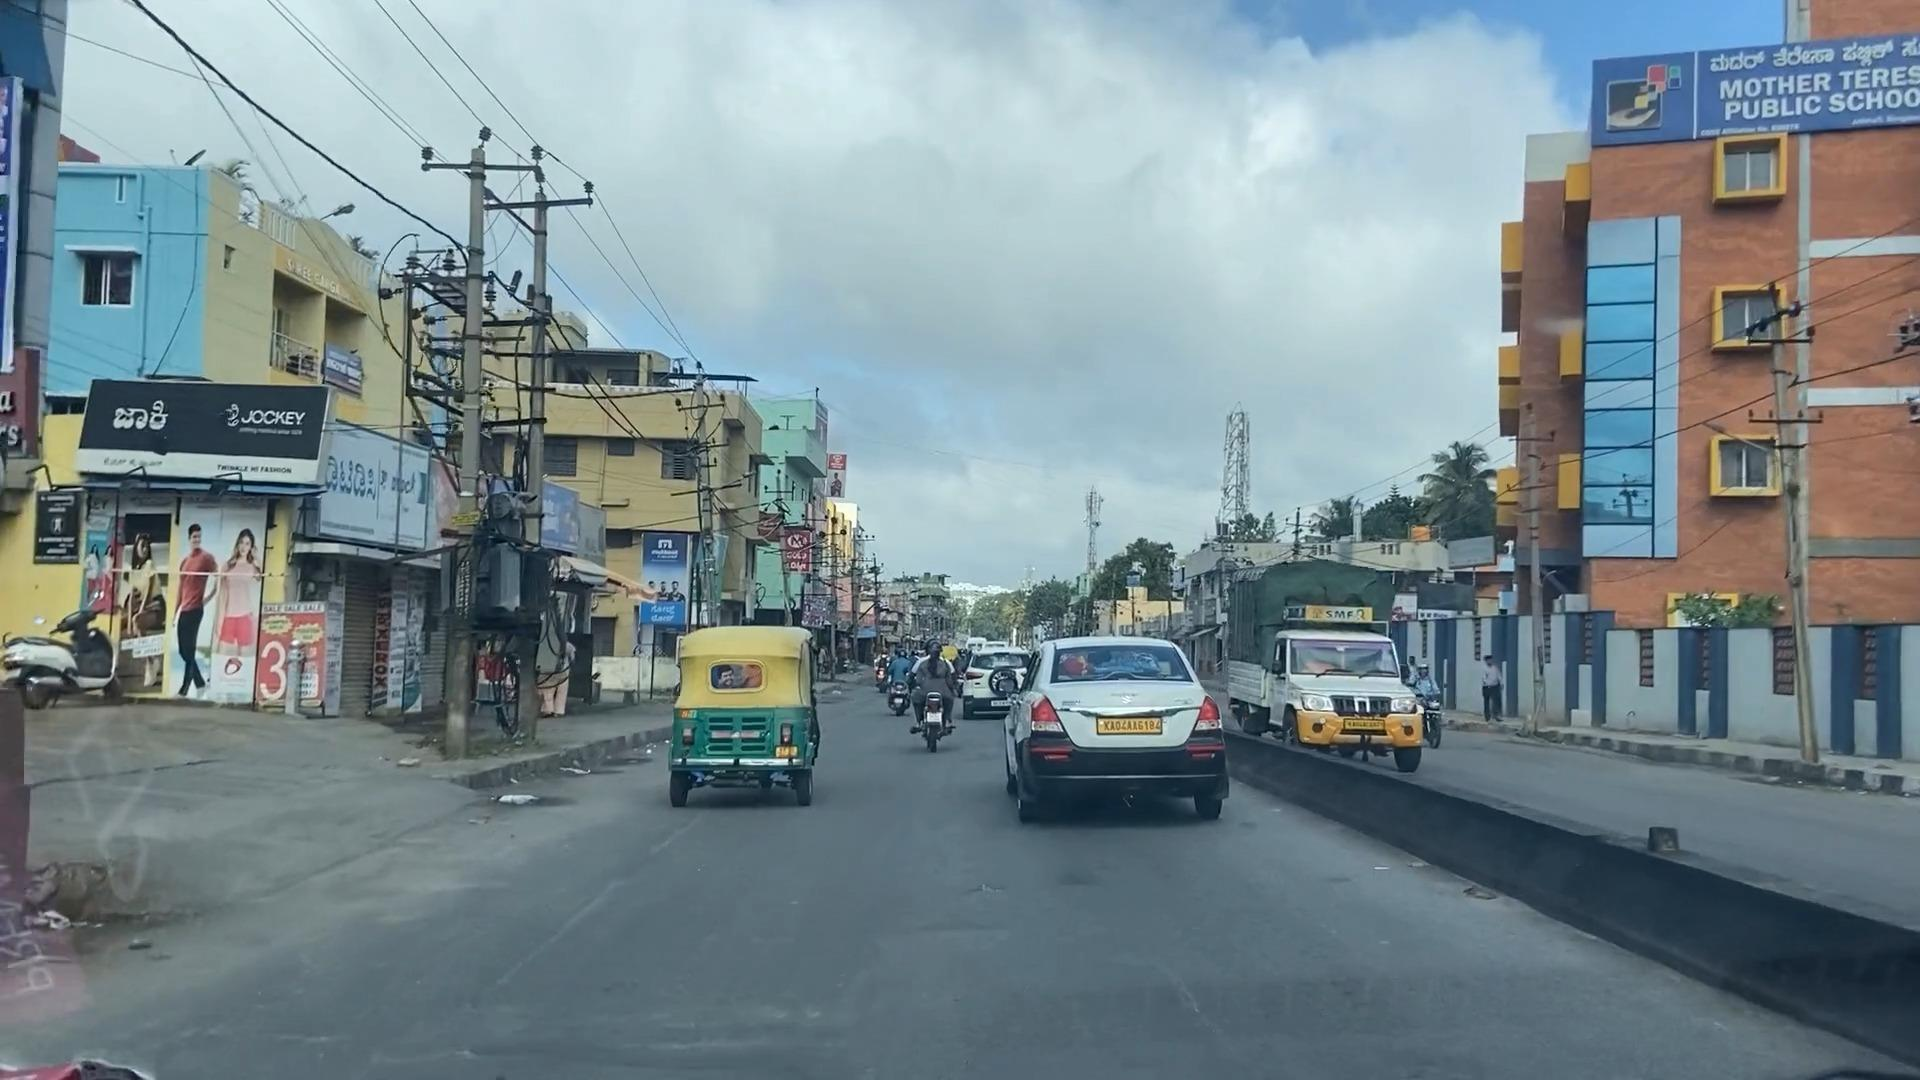LMV: (1001, 645, 1229, 832), (682, 628, 827, 800)
UnsurfacedRoad: (145, 961, 829, 1073)
